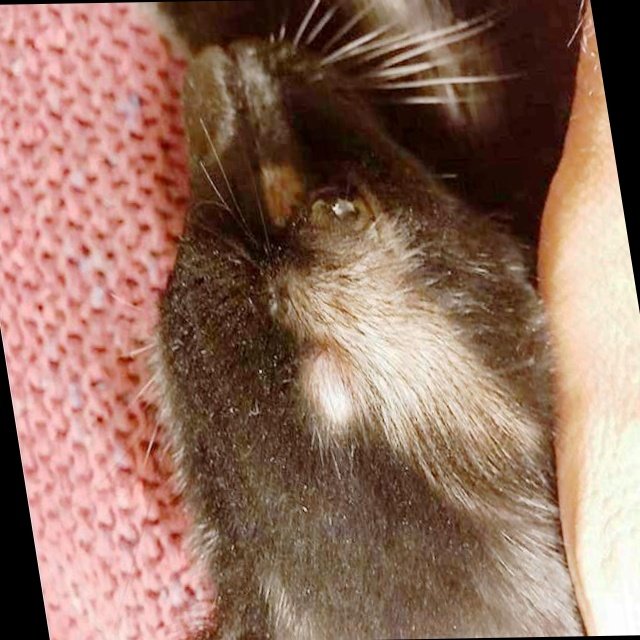lump_and_bump: (306, 370, 360, 416)
